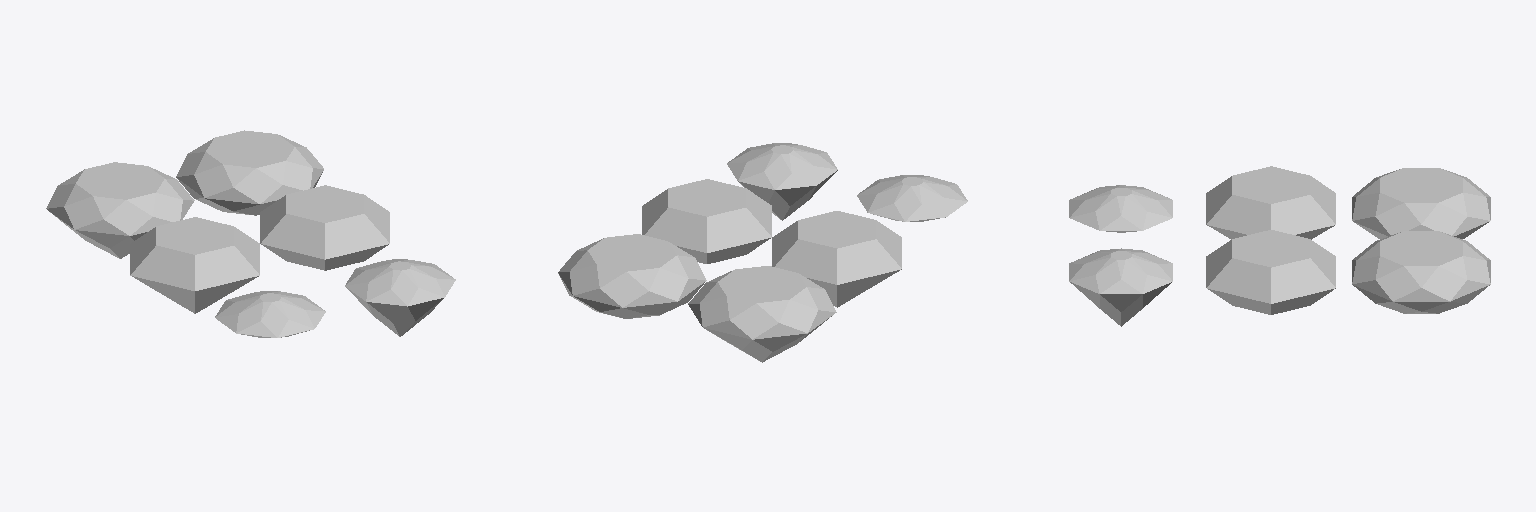
The model's file is gems.obj.
The picture shows the model from 3 angles: view 1: azimuth 30°, elevation 25°; view 2: azimuth 150°, elevation 25°; view 3: azimuth 270°, elevation 25°; orthographic projection.
Parts seen in each view (by area): view 1: Diamond.001, Gem, Gem.001, Diamond.000_Diamond.002, Gem.002, Gem.003; view 2: Gem, Gem.001, Diamond.001, Diamond.000_Diamond.002, Gem.002, Gem.003; view 3: Gem.001, Diamond.000_Diamond.002, Gem, Diamond.001, Gem.002, Gem.003.
Part boxes in pixels (bbox=[...]): Diamond.001: bbox=[130, 217, 259, 313]; Gem: bbox=[46, 162, 194, 258]; Gem.001: bbox=[176, 130, 323, 215]; Diamond.000_Diamond.002: bbox=[260, 185, 389, 270]; Gem.002: bbox=[345, 259, 455, 336]; Gem.003: bbox=[215, 291, 325, 337]; Gem: bbox=[688, 266, 836, 362]; Gem.001: bbox=[558, 234, 706, 318]; Diamond.001: bbox=[772, 211, 901, 307]; Diamond.000_Diamond.002: bbox=[642, 179, 771, 263]; Gem.002: bbox=[727, 143, 837, 220]; Gem.003: bbox=[857, 175, 967, 221]; Gem.001: bbox=[1352, 231, 1490, 313]; Diamond.000_Diamond.002: bbox=[1206, 230, 1335, 314]; Gem: bbox=[1352, 168, 1490, 238]; Diamond.001: bbox=[1206, 166, 1335, 239]; Gem.002: bbox=[1069, 248, 1172, 326]; Gem.003: bbox=[1069, 185, 1172, 232].
Size of the model in its own units: 4 by 1.15 by 5.62.